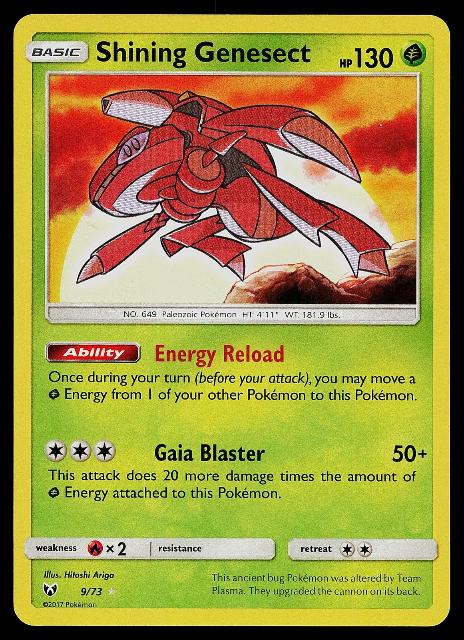Card: (9, 10, 455, 629)
Name: (93, 33, 318, 72)
